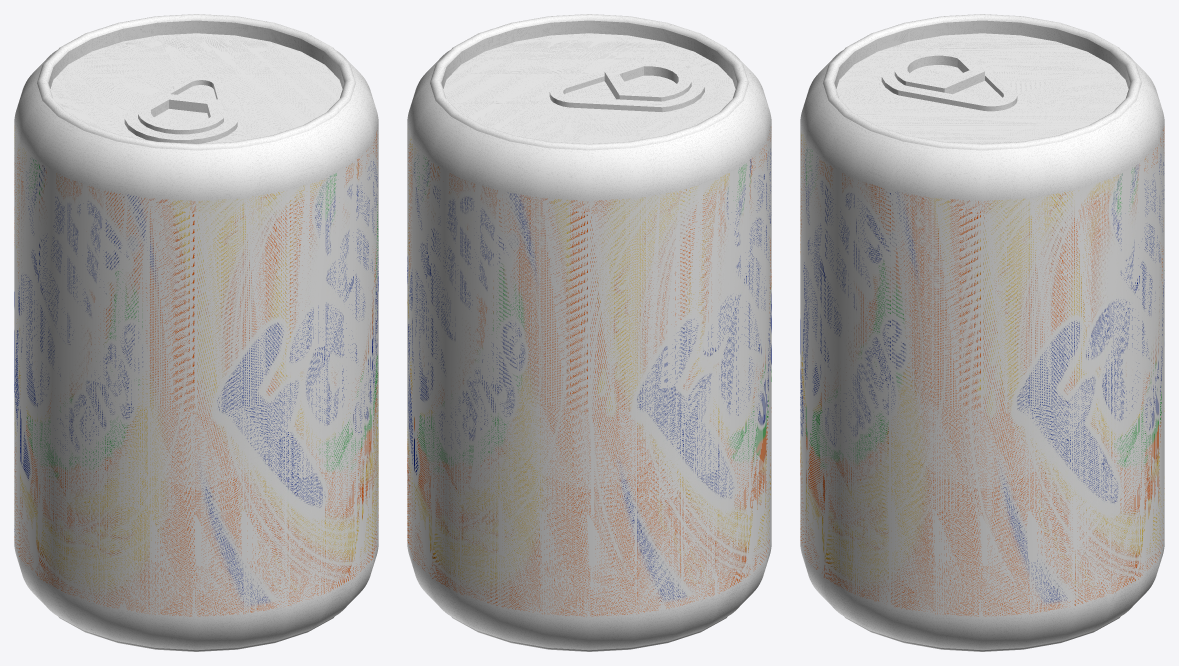
The model's file is FantaOrangeCan.dae.
3 views of the same model, side by side, from view 1: azimuth 30°, elevation 25°; view 2: azimuth 150°, elevation 25°; view 3: azimuth 270°, elevation 25° (orthographic).
Visible parts, largest first — view 1: SketchUp (×6); view 2: SketchUp (×6); view 3: SketchUp (×6).
Part boxes in pixels (box(x1,y1,x2,y2)): SketchUp (×6): box(14, 14, 378, 651); SketchUp (×6): box(407, 14, 771, 651); SketchUp (×6): box(800, 14, 1164, 651).
Bounding box in the file's own units: 3.63 × 3.63 × 5.57.
Materials: 3 (2 with a texture image).
